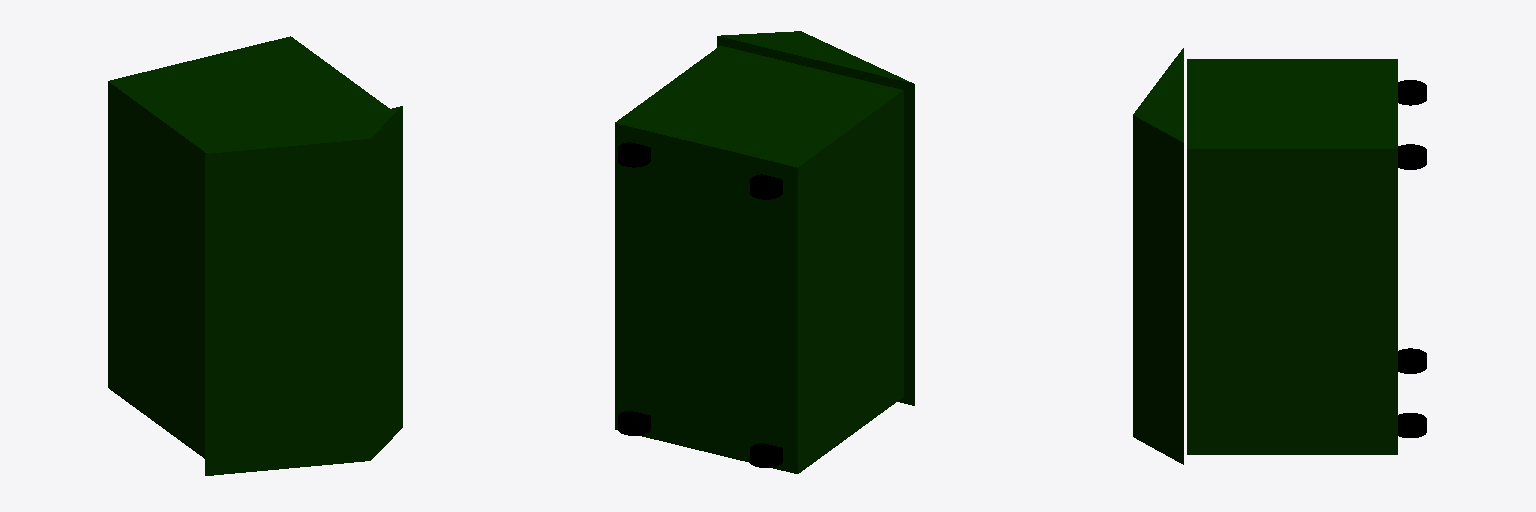
3 views of the same model, side by side, from view 1: azimuth 30°, elevation 25°; view 2: azimuth 150°, elevation 25°; view 3: azimuth 270°, elevation 25° (orthographic).
Parts seen in each view (by area): view 1: Box001; view 2: Box001; view 3: Box001.
Part boxes in pixels (bbox=[...]): Box001: bbox=[108, 36, 402, 475]; Box001: bbox=[615, 31, 914, 473]; Box001: bbox=[1133, 48, 1426, 464].
Size of the model in its own units: 53.15 by 82.68 by 68.47.
1 materials, 1 textured.